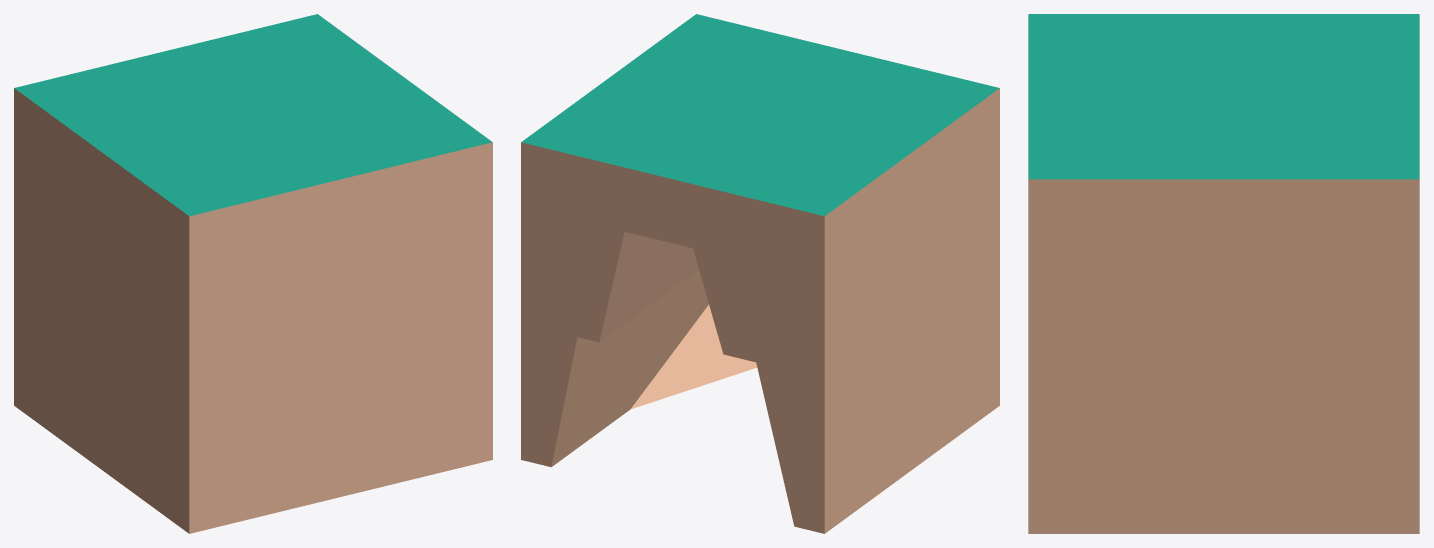
The model's file is cliff_blockCave_rock.glb.
3 views of the same model, side by side, from view 1: azimuth 30°, elevation 25°; view 2: azimuth 150°, elevation 25°; view 3: azimuth 270°, elevation 25° (orthographic). The views are drawn at different scales.
Parts seen in each view (by area): view 1: cliff_blockCave_rock; view 2: cliff_blockCave_rock; view 3: cliff_blockCave_rock.
Boxes of the visible parts, x1,y1,x2,y2 form: cliff_blockCave_rock: (14, 14, 492, 533); cliff_blockCave_rock: (521, 14, 999, 533); cliff_blockCave_rock: (1028, 14, 1419, 533).
Size of the model in its own units: 1.2 by 1.2 by 1.2.
